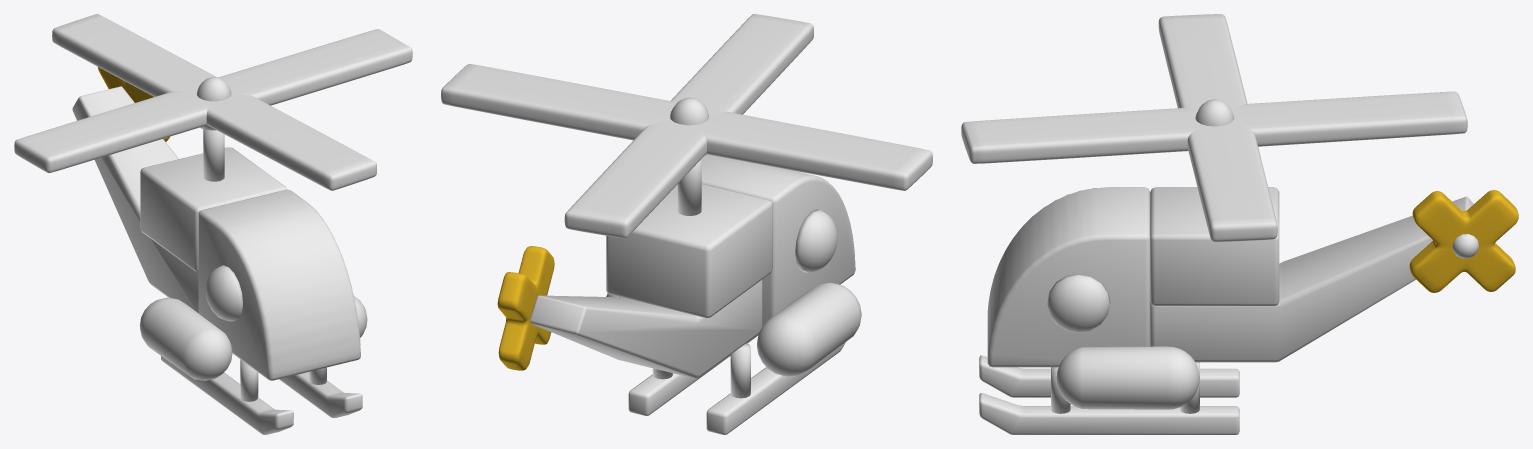
The model's file is helicoptero brinquedo madeira.fbx.
3 renders of one model, left to right at view 1: azimuth 30°, elevation 25°; view 2: azimuth 150°, elevation 25°; view 3: azimuth 270°, elevation 25°, orthographic. The views are drawn at different scales.
Parts seen in each view (by area): view 1: SM_ToyHelicopter.002, Rotor_Principal_Helice.003, Rotor_Principal_Helice.002, SM_ToyHelicopter.004, SM_ToyHelicopter.003, SM_ToyHelicopter.001, SM_ToyHelicopter, Rotor_Cauda_Amarelo.001; view 2: Rotor_Principal_Helice.003, Rotor_Principal_Helice.002, SM_ToyHelicopter.003, SM_ToyHelicopter.004, SM_ToyHelicopter.002, SM_ToyHelicopter.001, SM_ToyHelicopter, Rotor_Cauda_Amarelo.001; view 3: SM_ToyHelicopter.002, SM_ToyHelicopter.004, Rotor_Principal_Helice.002, Rotor_Principal_Helice.003, SM_ToyHelicopter.003, SM_ToyHelicopter.001, SM_ToyHelicopter, Rotor_Cauda_Amarelo.001.
Boxes of the visible parts, left/top/right/bottom form: SM_ToyHelicopter.002: left=198, top=189, right=360, bottom=380; Rotor_Principal_Helice.003: left=14, top=29, right=412, bottom=173; Rotor_Principal_Helice.002: left=52, top=14, right=376, bottom=190; SM_ToyHelicopter.004: left=72, top=77, right=231, bottom=312; SM_ToyHelicopter.003: left=140, top=147, right=287, bottom=271; SM_ToyHelicopter.001: left=139, top=265, right=367, bottom=380; SM_ToyHelicopter: left=161, top=356, right=362, bottom=434; Rotor_Cauda_Amarelo.001: left=98, top=67, right=169, bottom=141; Rotor_Principal_Helice.003: left=441, top=64, right=932, bottom=190; Rotor_Principal_Helice.002: left=564, top=14, right=813, bottom=238; SM_ToyHelicopter.003: left=606, top=184, right=772, bottom=317; SM_ToyHelicopter.004: left=530, top=97, right=762, bottom=378; SM_ToyHelicopter.002: left=701, top=154, right=855, bottom=326; SM_ToyHelicopter.001: left=606, top=209, right=861, bottom=376; SM_ToyHelicopter: left=628, top=335, right=845, bottom=434; Rotor_Cauda_Amarelo.001: left=497, top=246, right=554, bottom=370; SM_ToyHelicopter.002: left=987, top=187, right=1150, bottom=367; SM_ToyHelicopter.004: left=1150, top=99, right=1478, bottom=362; Rotor_Principal_Helice.002: left=961, top=91, right=1467, bottom=163; Rotor_Principal_Helice.003: left=1158, top=14, right=1277, bottom=241; SM_ToyHelicopter.003: left=1150, top=187, right=1279, bottom=305; SM_ToyHelicopter.001: left=1047, top=273, right=1199, bottom=409; SM_ToyHelicopter: left=979, top=355, right=1239, bottom=434; Rotor_Cauda_Amarelo.001: left=1409, top=190, right=1518, bottom=292.
Size of the model in its own units: 0.255 by 0.173 by 0.2805.
